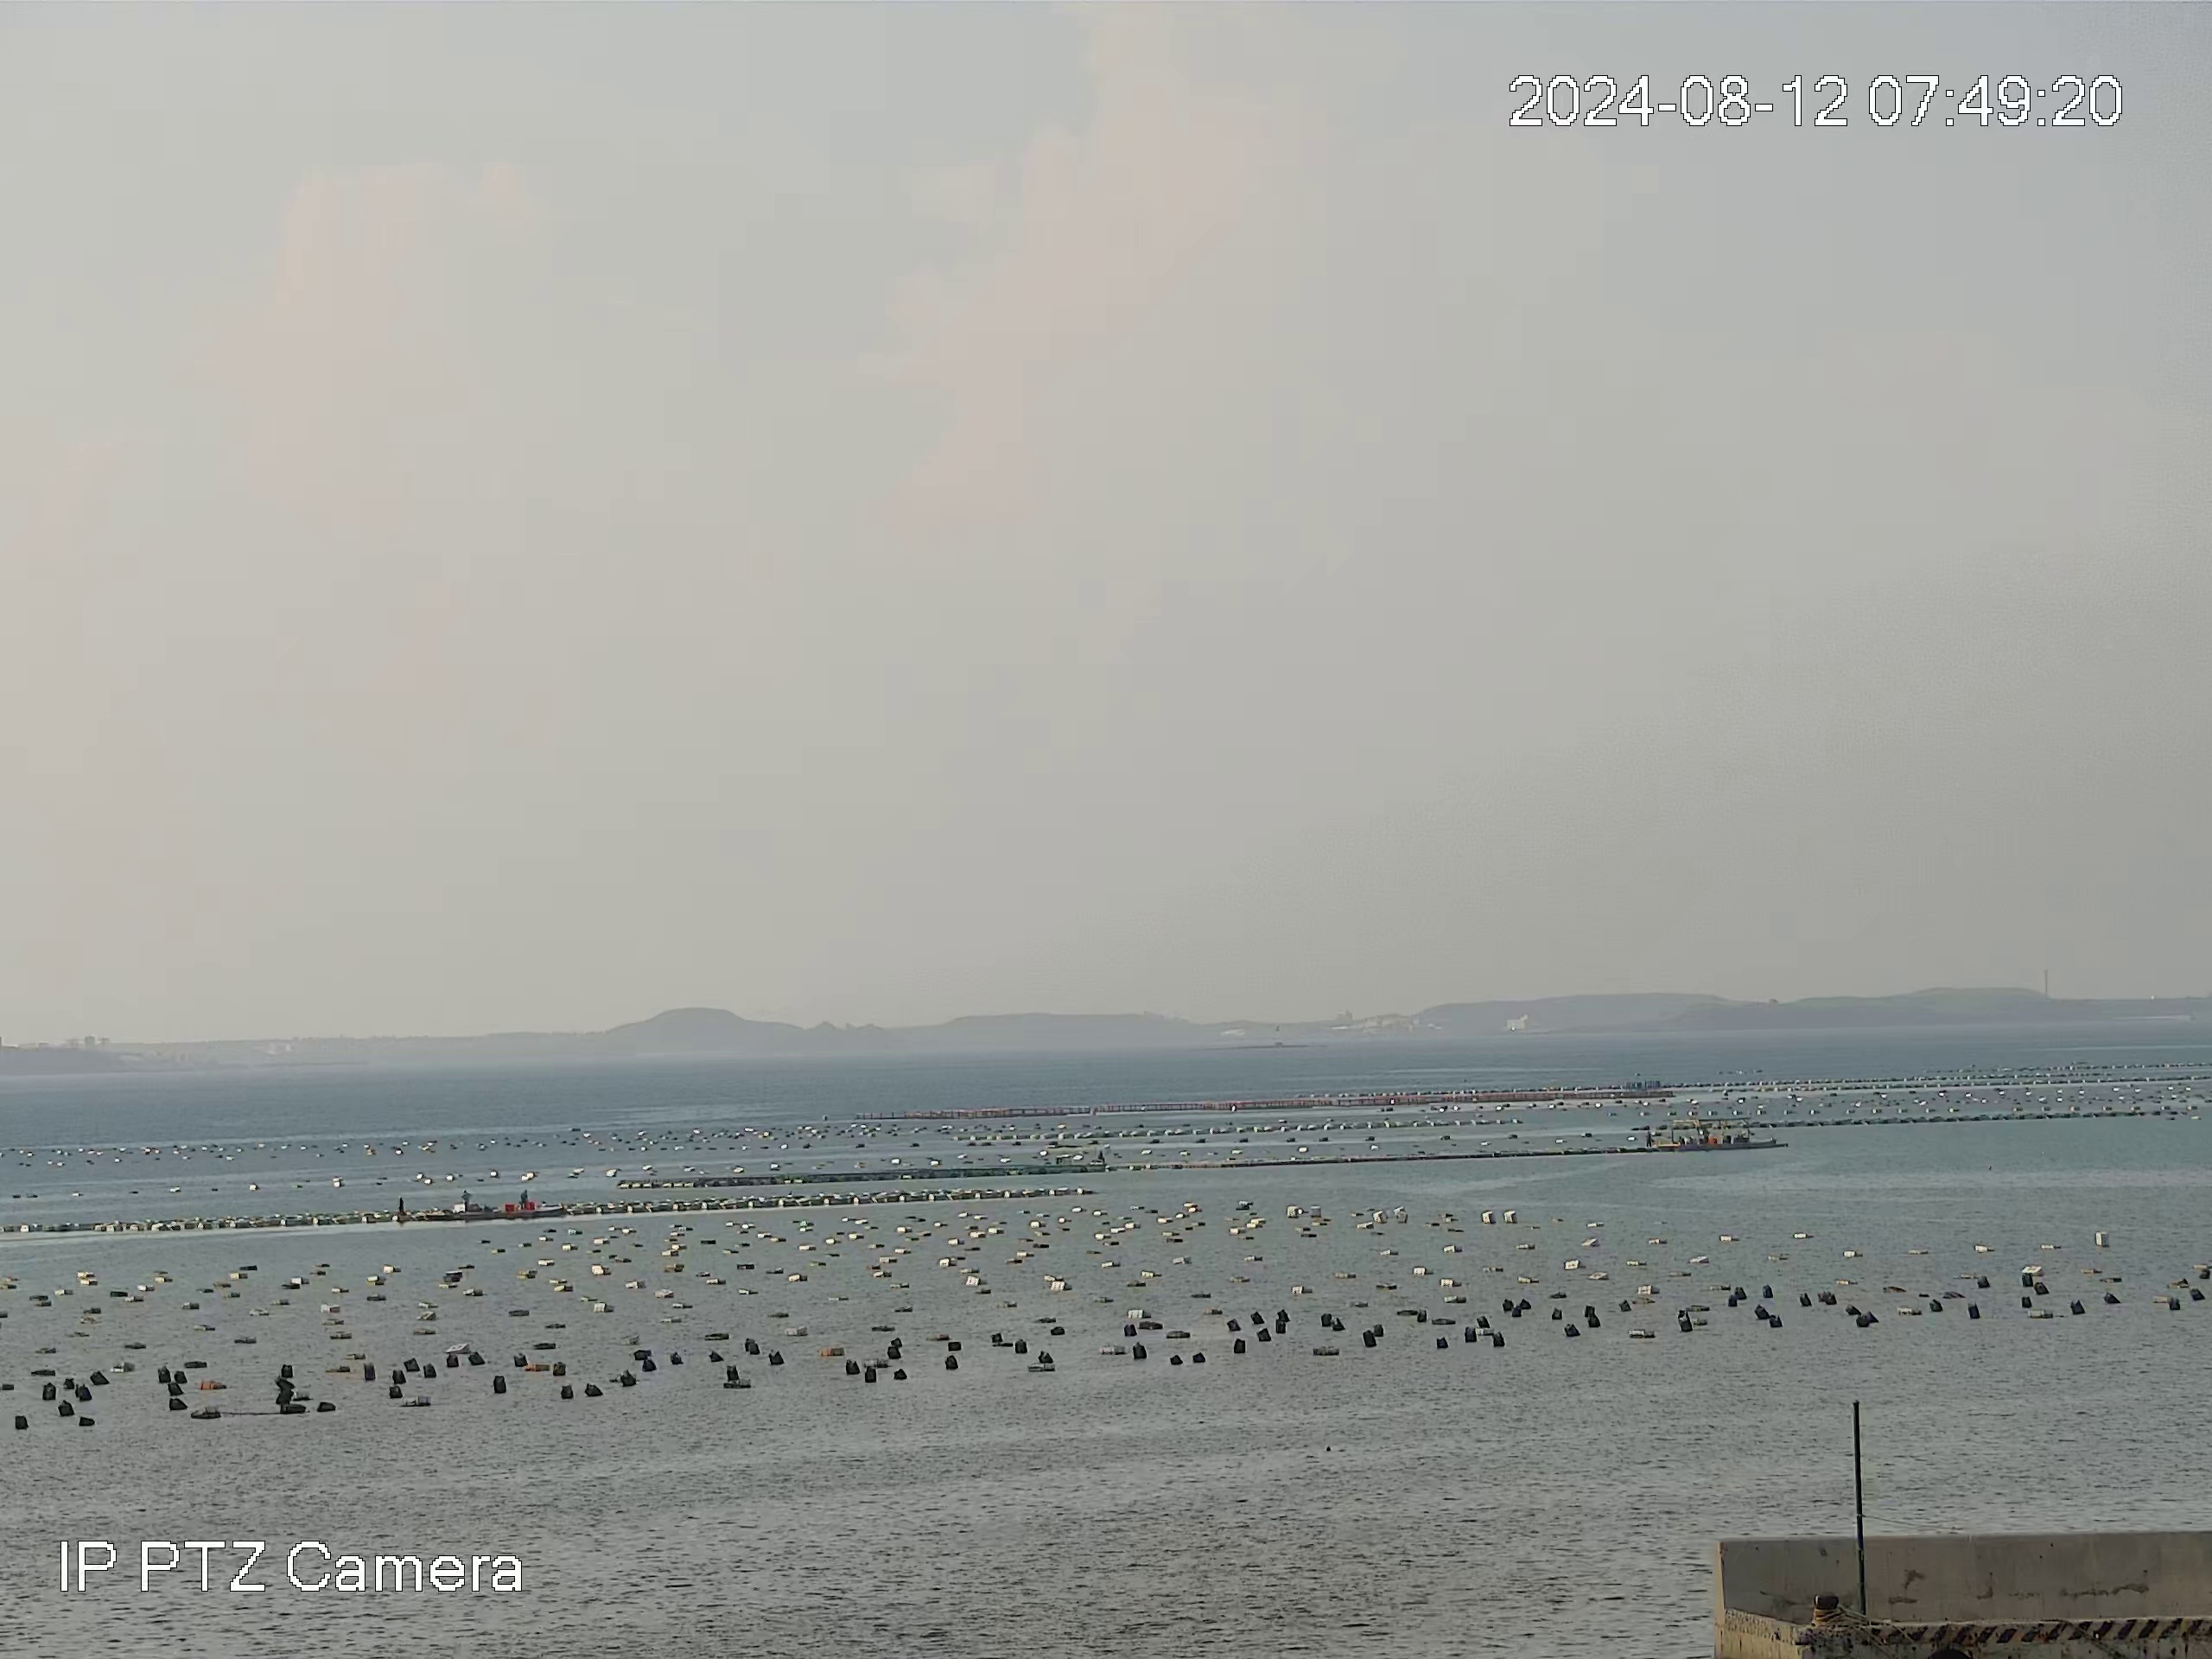boat: (397, 1188, 570, 1223), (1644, 1121, 1782, 1152)
